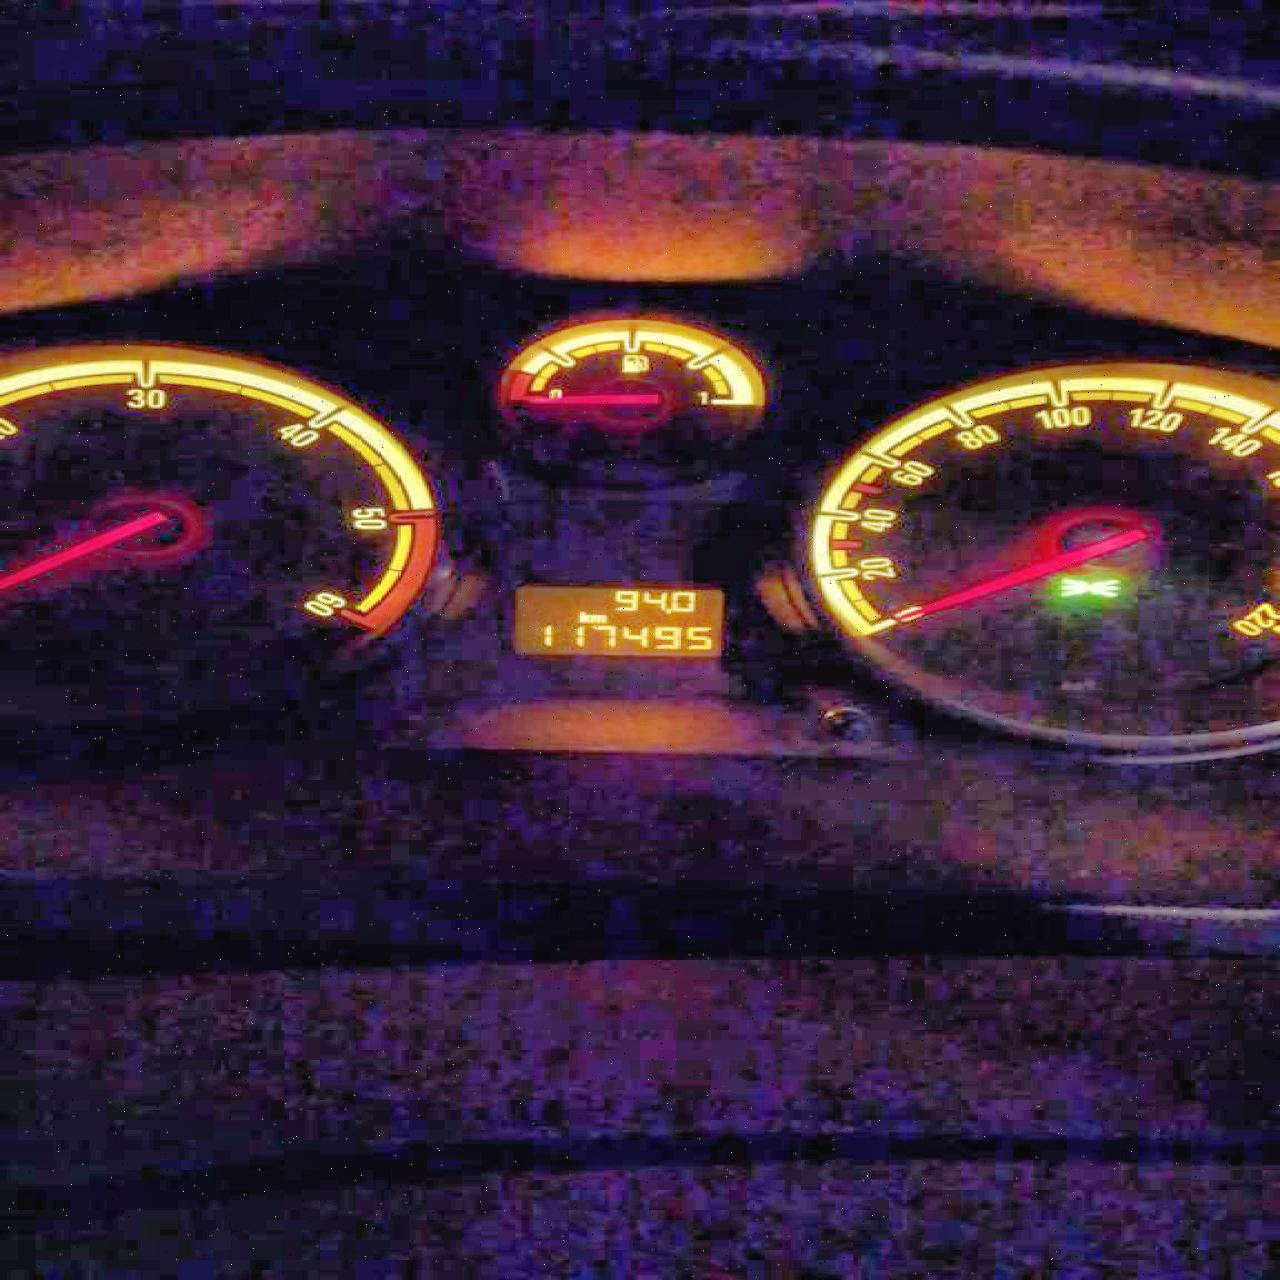-: (662, 607, 670, 613)
0: (669, 590, 693, 611)
1: (573, 625, 585, 646), (540, 624, 551, 646)
4: (620, 625, 647, 647), (640, 590, 667, 610)
5: (685, 625, 712, 649)
7: (591, 625, 615, 646)
9: (651, 625, 680, 649), (613, 588, 638, 611)
X: (588, 613, 607, 622), (576, 610, 588, 622)
odometer: (509, 583, 724, 658)
